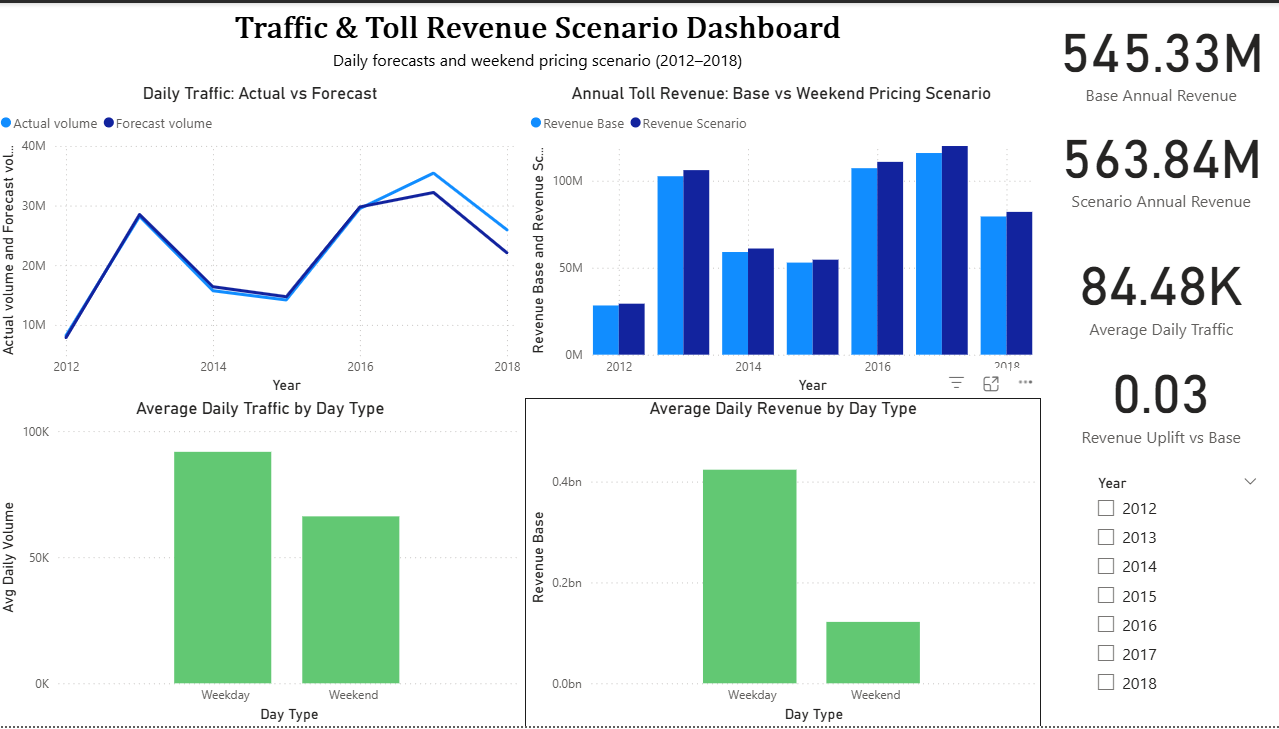

The page's visual inventory and layout, read from the dashboard file:
{"tool":"powerbi","page":{"name":"Page 1","canvas":[1280,720],"ordinal":0},"visuals":[{"type":"slicer","fields":{"Values":["traffic_daily_export.year"]},"box":[1084.3,463.6,183.4,256.3],"z":0},{"type":"card","fields":{"Values":["traffic_daily_export.Avg Daily Volume"]},"box":[1041.1,233.2,239.2,106.8],"z":1000},{"type":"card","fields":{"Values":["traffic_daily_export.Revenue Uplift %"]},"box":[1041.1,340,239.2,106.8],"z":2000},{"type":"card","fields":{"Values":["traffic_daily_export.Revenue Scenario"]},"box":[1041.1,106.8,239.2,103.8],"z":3000},{"type":"card","fields":{"Values":["traffic_daily_export.Revenue Base"]},"box":[1041.1,0,239.2,106.8],"z":4000},{"type":"lineChart","title":"Daily Traffic: Actual vs Forecast","fields":{"Category":["traffic_daily_export.date.Variation.Date Hierarchy.Year","traffic_daily_export.date.Variation.Date Hierarchy.Quarter","traffic_daily_export.date.Variation.Date Hierarchy.Month","traffic_daily_export.date.Variation.Date Hierarchy.Day"],"Y":["Sum(traffic_daily_export.total_traffic_volume)","Sum(traffic_daily_export.predicted_volume)"]},"box":[0,79.2,527.7,314.1],"z":5000},{"type":"clusteredColumnChart","title":"Annual Toll Revenue: Base vs Weekend Pricing Scenario","fields":{"Category":["traffic_daily_export.year"],"Y":["traffic_daily_export.Revenue Base","traffic_daily_export.Revenue Scenario"]},"box":[527.7,79.2,510.1,314.1],"z":6000},{"type":"clusteredColumnChart","title":"Average Daily Traffic by Day Type","fields":{"Category":["traffic_daily_export.Day Type"],"Y":["traffic_daily_export.Avg Daily Volume"]},"box":[0,393.2,527.7,327.9],"z":7000},{"type":"clusteredColumnChart","title":"Average Daily Revenue by Day Type","fields":{"Category":["traffic_daily_export.Day Type"],"Y":["traffic_daily_export.Revenue Base"]},"box":[527.7,393.2,513.9,327.9],"z":8000},{"type":"textbox","box":[216.1,2.5,647,76.6],"z":8001}]}

Visuals, with their boxes in screenshot pixels (x1, y1, x2, y2), scaled from the page's 1280x720 canvas onto the 1279x729 screenshot:
slicer - traffic_daily_export.year: <bbox>1083, 469, 1267, 728</bbox>
card - traffic_daily_export.Avg Daily Volume: <bbox>1040, 236, 1278, 344</bbox>
card - traffic_daily_export.Revenue Uplift %: <bbox>1040, 344, 1278, 452</bbox>
card - traffic_daily_export.Revenue Scenario: <bbox>1040, 108, 1278, 213</bbox>
card - traffic_daily_export.Revenue Base: <bbox>1040, 0, 1278, 108</bbox>
"Daily Traffic: Actual vs Forecast" lineChart: <bbox>0, 80, 527, 398</bbox>
"Annual Toll Revenue: Base vs Weekend Pricing Scenario" clusteredColumnChart: <bbox>527, 80, 1037, 398</bbox>
"Average Daily Traffic by Day Type" clusteredColumnChart: <bbox>0, 398, 527, 728</bbox>
"Average Daily Revenue by Day Type" clusteredColumnChart: <bbox>527, 398, 1041, 728</bbox>
textbox: <bbox>216, 3, 862, 80</bbox>
